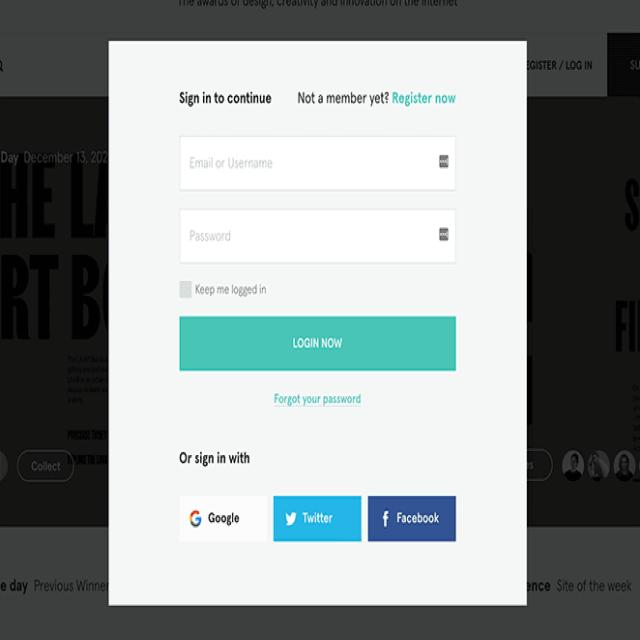Button: (171, 308, 467, 384), (365, 491, 472, 556), (267, 494, 367, 550), (176, 492, 258, 544)
Check-box: (177, 276, 275, 311)
Container: (104, 30, 532, 611)
Input-field: (180, 125, 462, 202), (177, 206, 467, 274)
Text: (296, 89, 463, 124), (176, 87, 273, 111), (270, 392, 365, 416), (174, 448, 253, 472)
